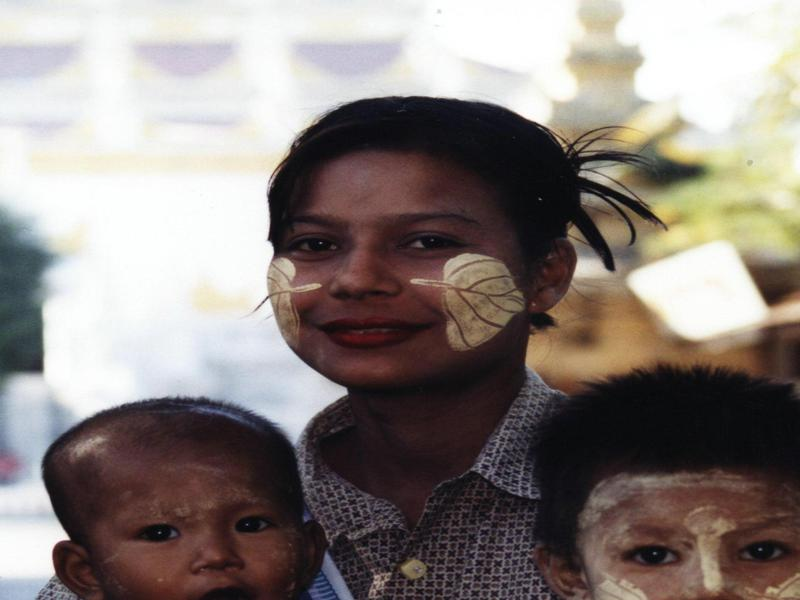person: (260, 79, 596, 600), (532, 359, 798, 600), (39, 403, 328, 600)
